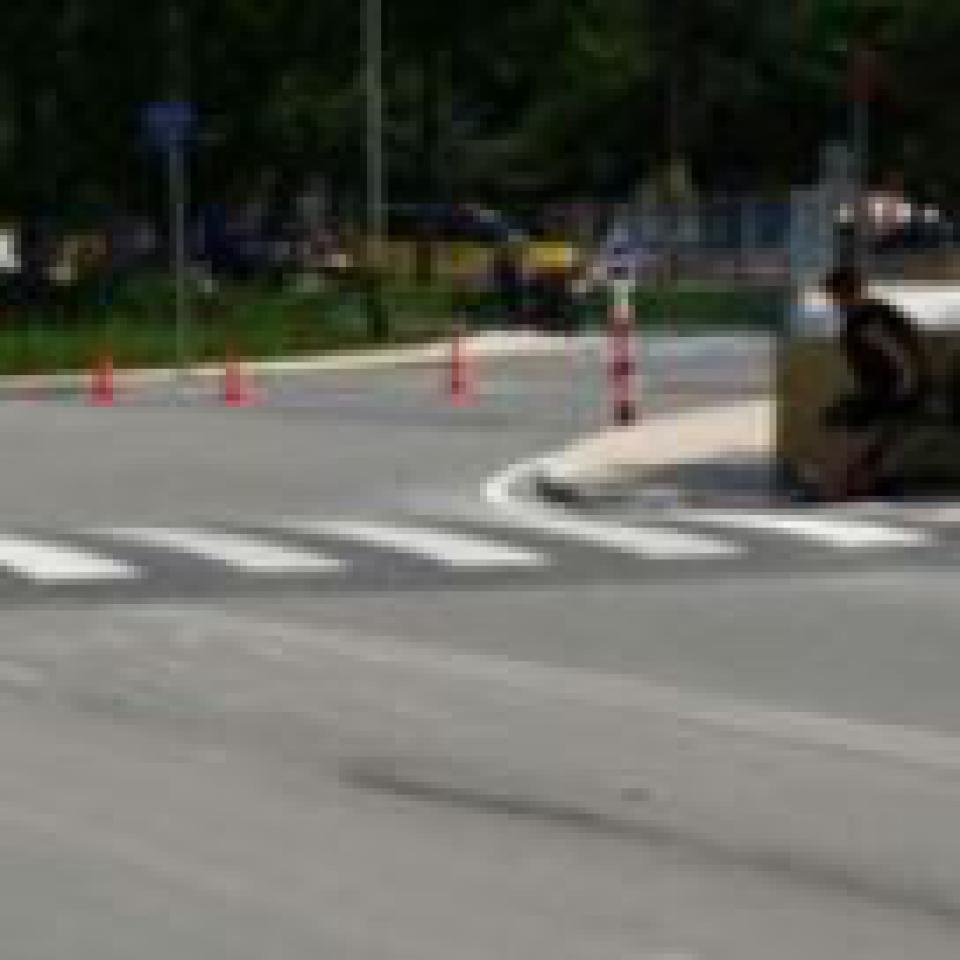Speed_Breaker: (0, 490, 960, 618), (0, 505, 959, 599)
